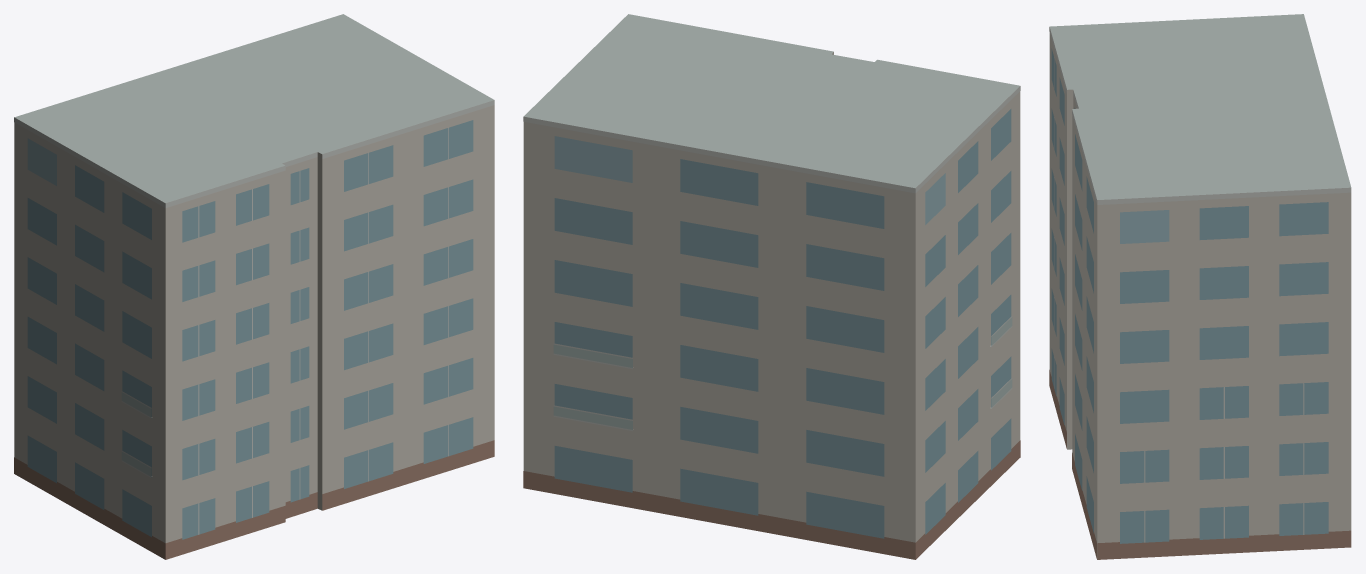
The model's file is survey-upis-32746684.glb.
The picture shows the model from 3 angles, left to right: view 1: azimuth 30°, elevation 25°; view 2: azimuth 150°, elevation 25°; view 3: azimuth 270°, elevation 25°; orthographic projection. The views are drawn at different scales.
Visible parts, largest first — view 1: survey-upis-32746684.tmp; view 2: survey-upis-32746684.tmp; view 3: survey-upis-32746684.tmp.
Boxes of the visible parts, x1=… form: survey-upis-32746684.tmp: x1=14, y1=14, x2=494, y2=559; survey-upis-32746684.tmp: x1=523, y1=14, x2=1020, y2=559; survey-upis-32746684.tmp: x1=1049, y1=14, x2=1351, y2=559.
Bounding box in the file's own units: 19.65 × 17.7 × 13.47.
